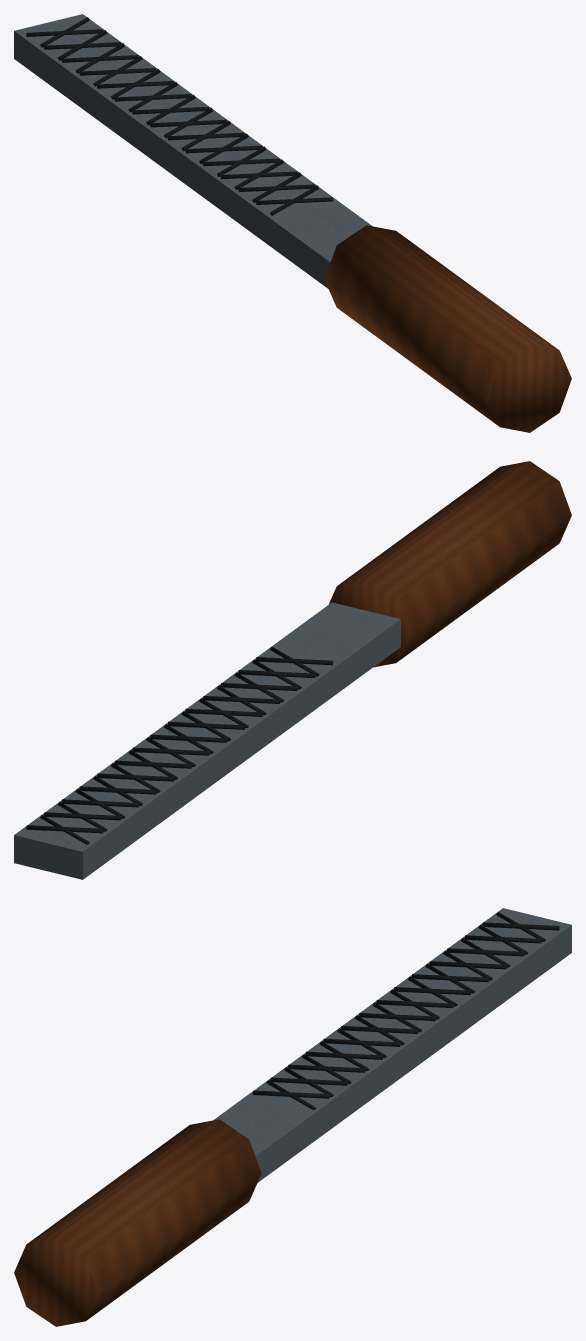
The model's file is BladeFile.gltf.
The picture shows the model from 3 angles, top to bottom: view 1: azimuth 30°, elevation 25°; view 2: azimuth 150°, elevation 25°; view 3: azimuth 330°, elevation 25°; orthographic projection.
Visible parts, largest first — view 1: BladeFile__Body; view 2: BladeFile__Body; view 3: BladeFile__Body.
Boxes of the visible parts, left/top/right/bottom form: BladeFile__Body: left=14, top=14, right=571, bottom=432; BladeFile__Body: left=14, top=461, right=571, bottom=879; BladeFile__Body: left=14, top=908, right=571, bottom=1326.
Bounding box in the file's own units: 0.0308 × 0.0308 × 0.3052.
1 material, 1 textured.
